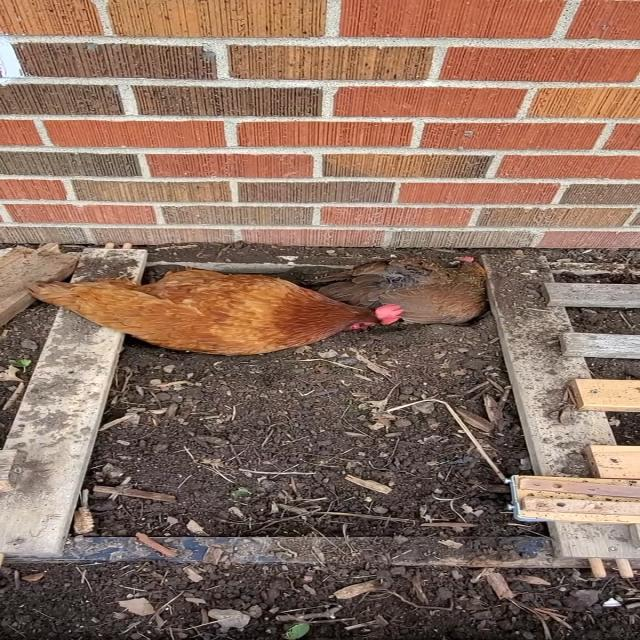stand bath: (27, 252, 393, 350), (337, 250, 507, 332)
